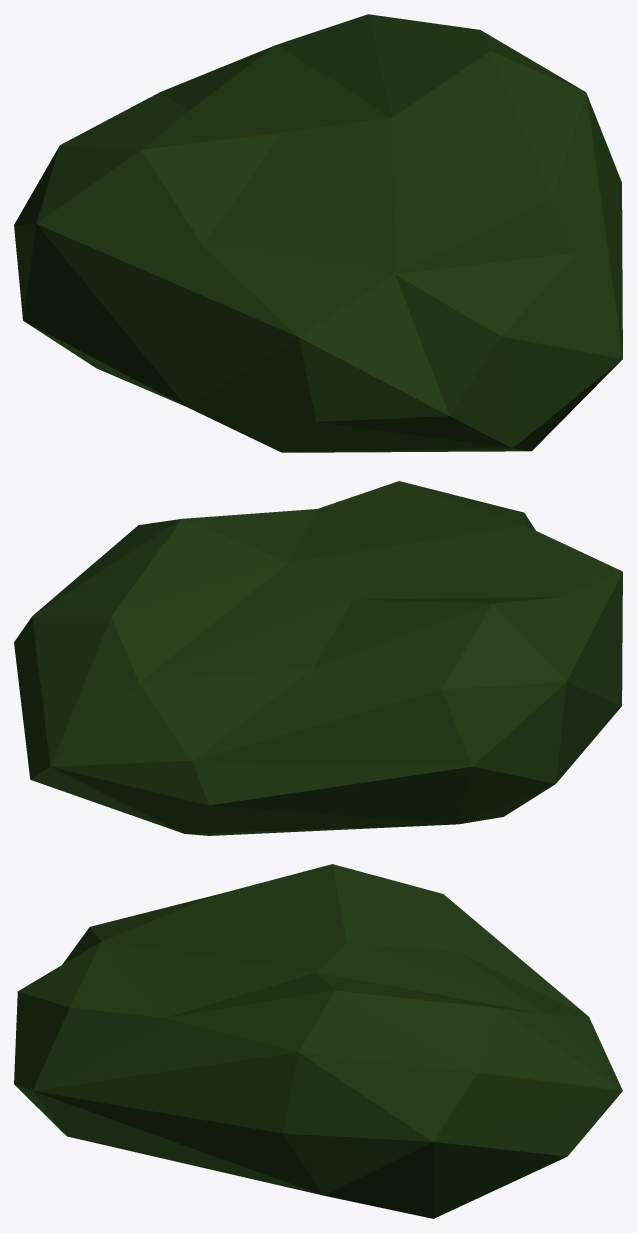
Rendered from SM_bush_01.fbx.
3 views of the same model, one above another, from view 1: azimuth 30°, elevation 25°; view 2: azimuth 150°, elevation 25°; view 3: azimuth 270°, elevation 25° (orthographic). The views are drawn at different scales.
Visible parts, largest first — view 1: Object121; view 2: Object121; view 3: Object121.
Boxes of the visible parts, x1,y1,x2,y2 form: Object121: (14,14,622,452); Object121: (14,481,622,835); Object121: (14,864,622,1218).
Size of the model in its own units: 120 by 57.23 by 139.
